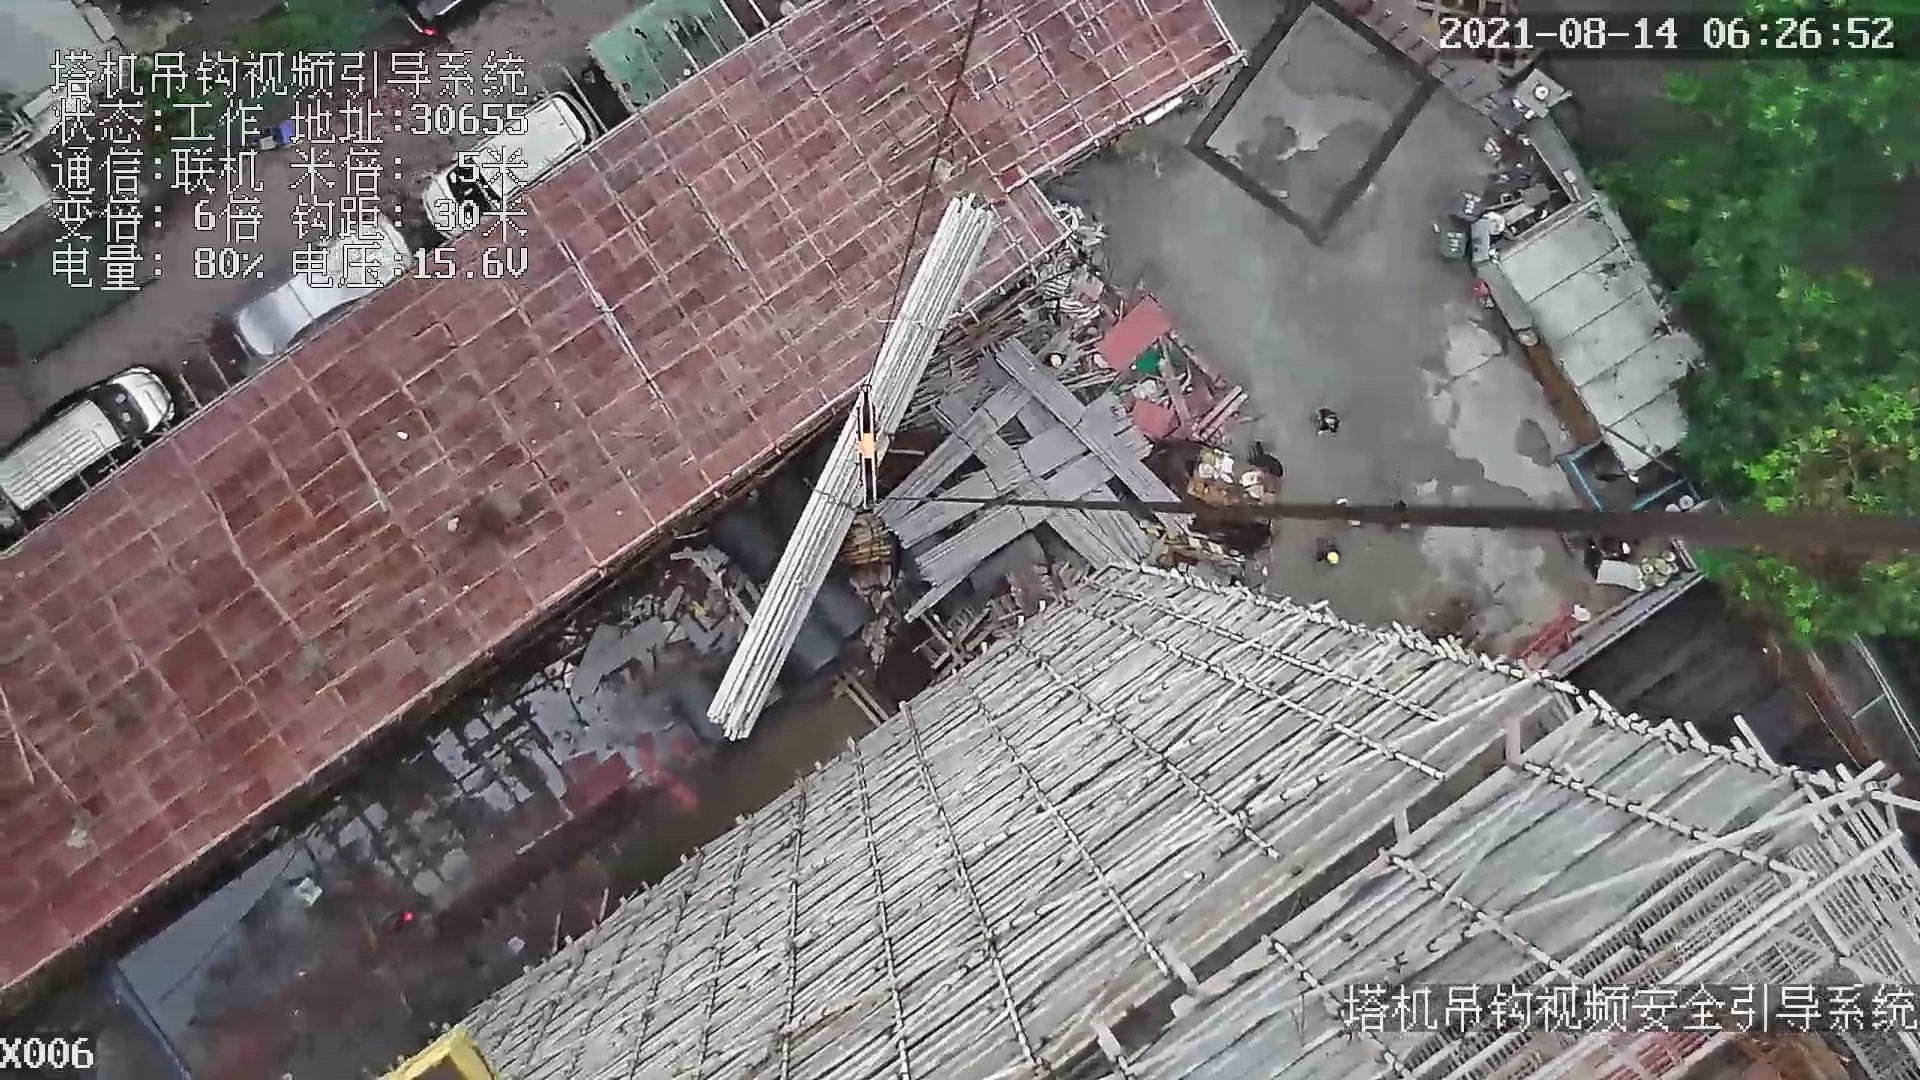helmet: (1324, 550, 1339, 565)
hook: (842, 380, 883, 510)
person: (1304, 408, 1336, 439), (1320, 536, 1340, 564)
